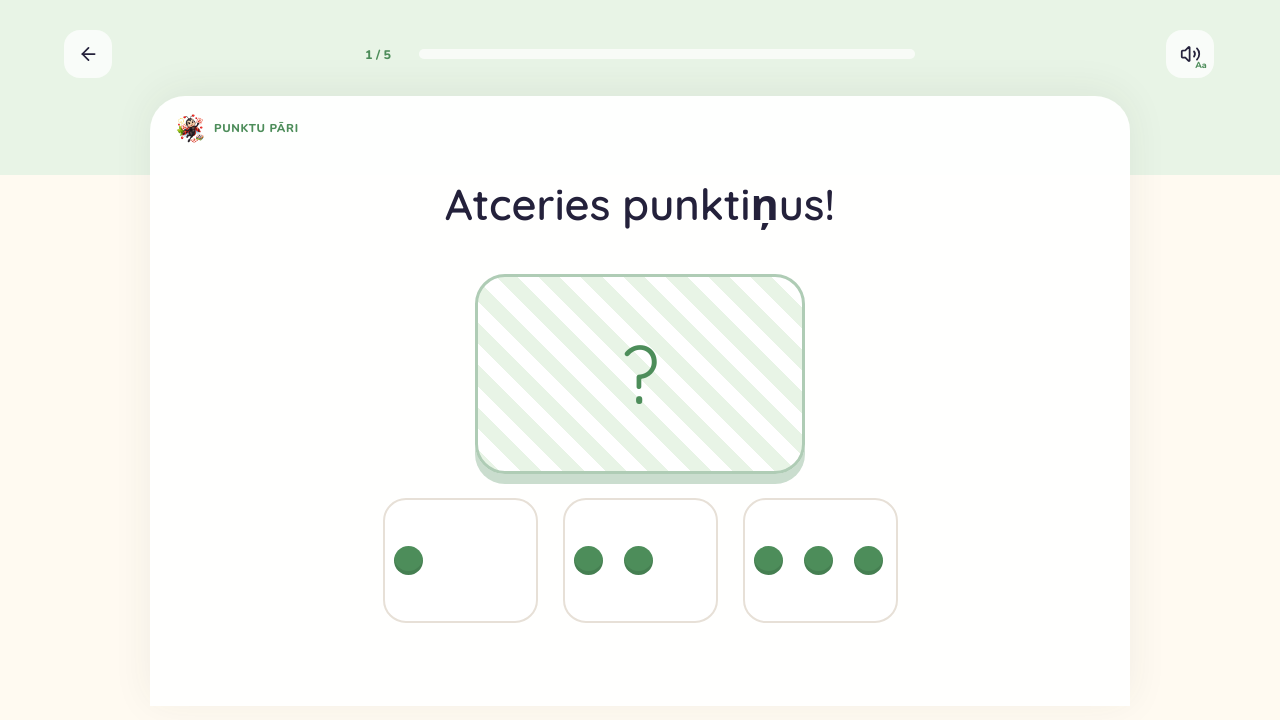
it: correct-answer auto-advance › shows no Continue button and auto-advances to the next round after a delay
Click the 2nd button with class "answer-card".
click(640, 560)  # box x1=562 y1=498 x2=718 y2=623
Wait 1100 ms
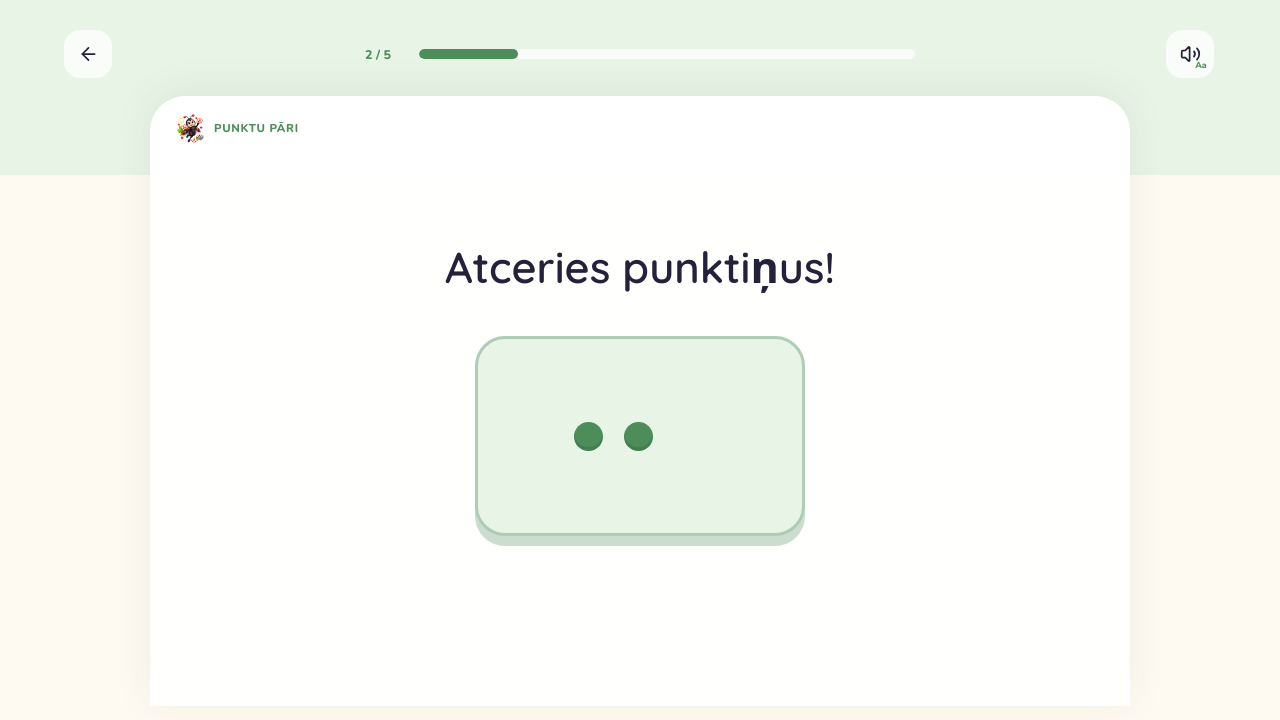
Check: the element named "Uzdevums 2 no 5" is shown, box x1=365 y1=46 x2=915 y2=62
